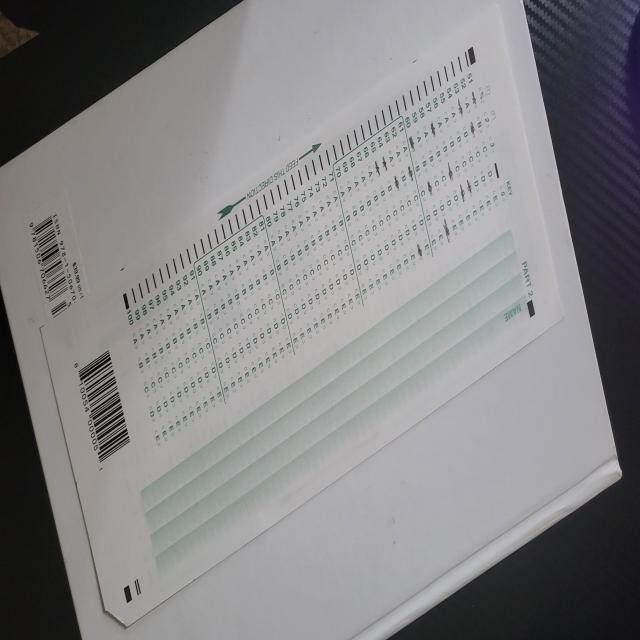scantron_back: (40, 1, 565, 629)
